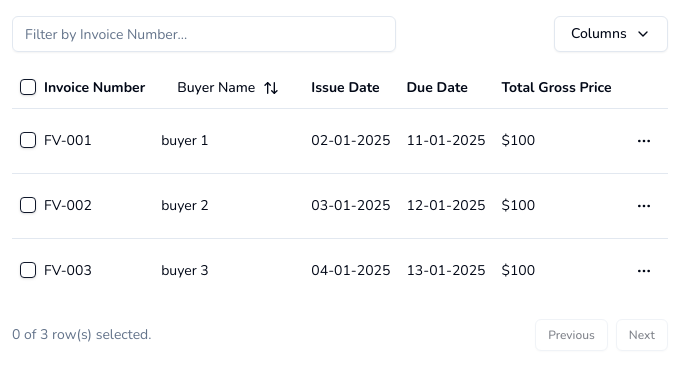
Test: InvoicesTable › selects a row and shows counter
Click the checkbox named "select row" next to "FV-001". click: point(28, 140)
box: x1=20 y1=132 x2=36 y2=148
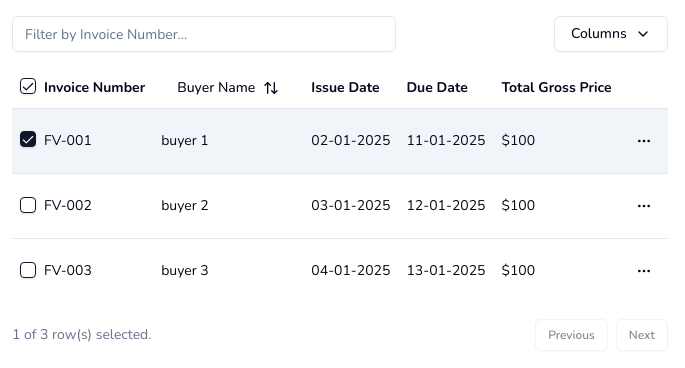
Result: the text "1 of 3 row(s) selected." is shown at x1=12 y1=324 x2=152 y2=344
